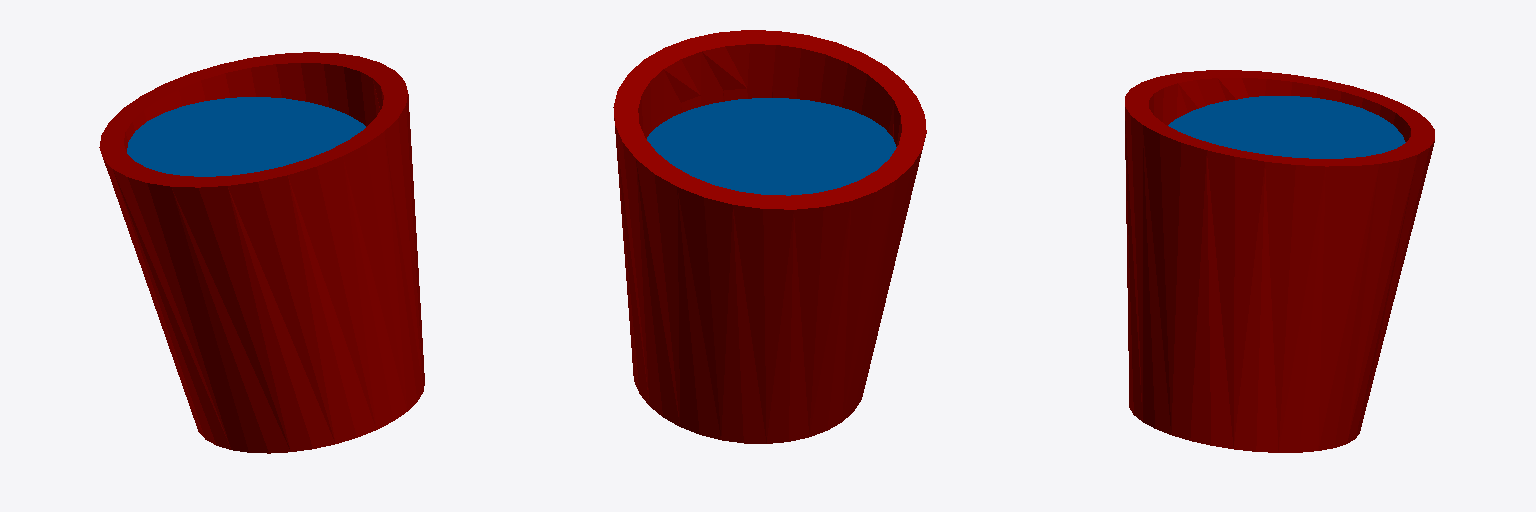
File: Bucket.obj
3 renders of one model, left to right at view 1: azimuth 30°, elevation 25°; view 2: azimuth 150°, elevation 25°; view 3: azimuth 270°, elevation 25°, orthographic.
Visible parts, largest first — view 1: Circle, Circle_001; view 2: Circle, Circle_001; view 3: Circle, Circle_001.
Boxes of the visible parts, x1,y1,x2,y2 form: Circle: [99, 52, 424, 453]; Circle_001: [127, 97, 365, 176]; Circle: [613, 30, 926, 443]; Circle_001: [647, 98, 896, 195]; Circle: [1125, 70, 1434, 452]; Circle_001: [1168, 96, 1405, 158].
Size of the model in its own units: 2 by 2.28 by 1.98.